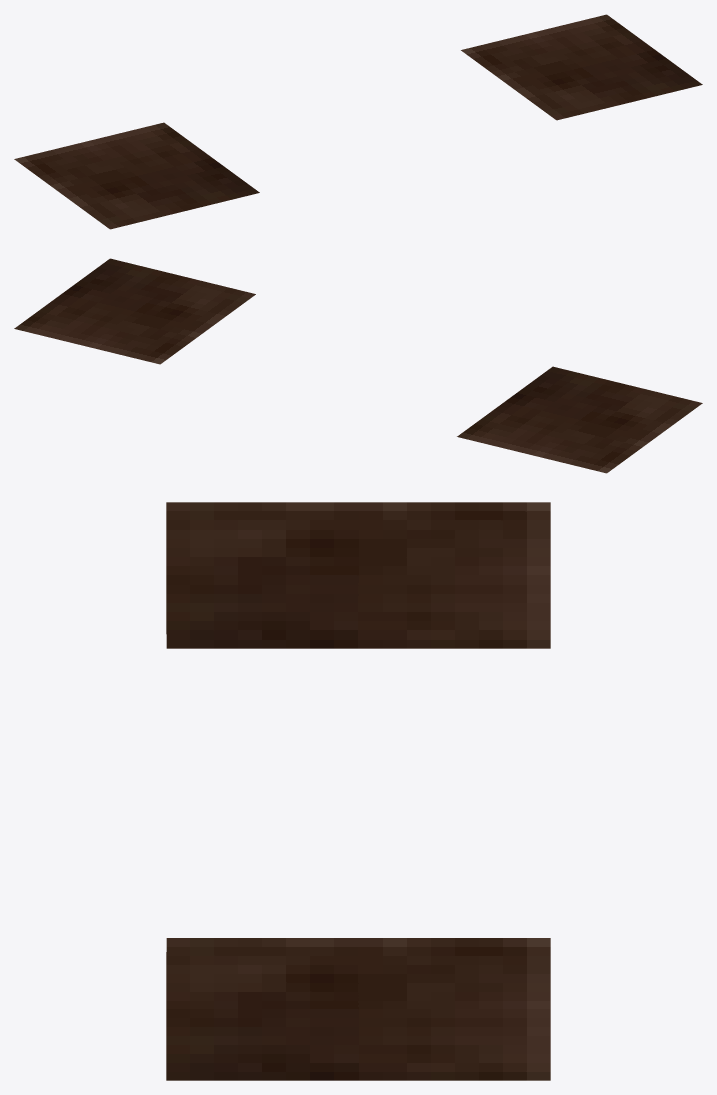
The model's file is english_arch_a_footprint.fbx.
The picture shows the model from 3 angles, top to bottom: view 1: azimuth 30°, elevation 25°; view 2: azimuth 150°, elevation 25°; view 3: azimuth 270°, elevation 25°; orthographic projection. The views are drawn at different scales.
Parts seen in each view (by area): view 1: footprint; view 2: footprint; view 3: footprint.
Part boxes in pixels (x1,y1,x2,y2): footprint: (14,14,702,229); footprint: (14,258,702,473); footprint: (166,502,550,1080).
Size of the model in its own units: 5000 by 0.000229 by 1404.
Materials: 1 (1 with a texture image).
